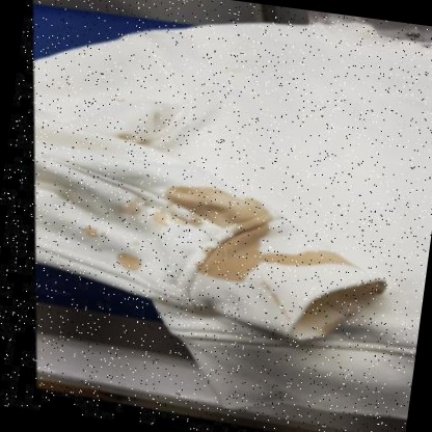coffee: (167, 186, 264, 228), (254, 244, 331, 272), (211, 238, 256, 277), (117, 253, 142, 272)
